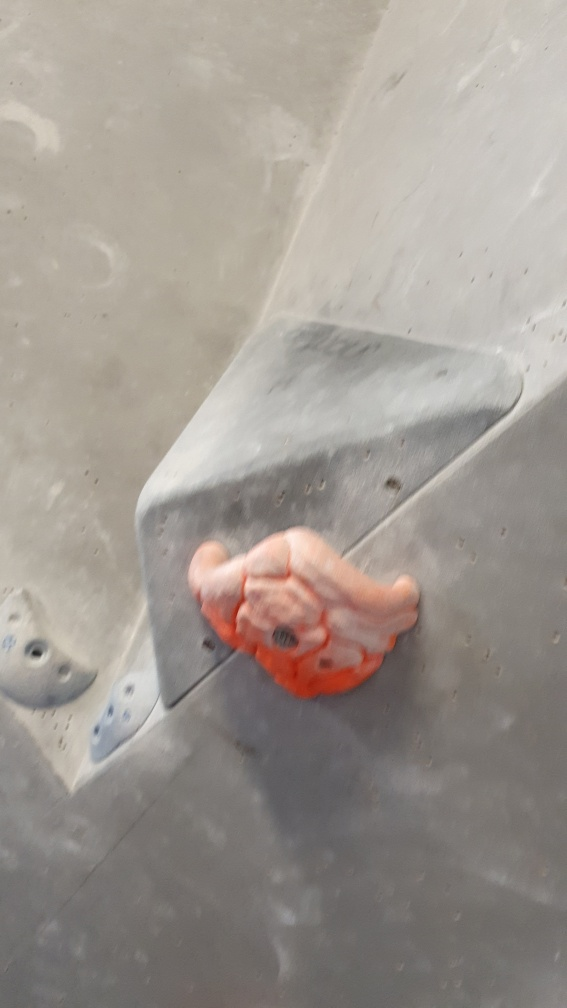Jug: (188, 524, 422, 699)
